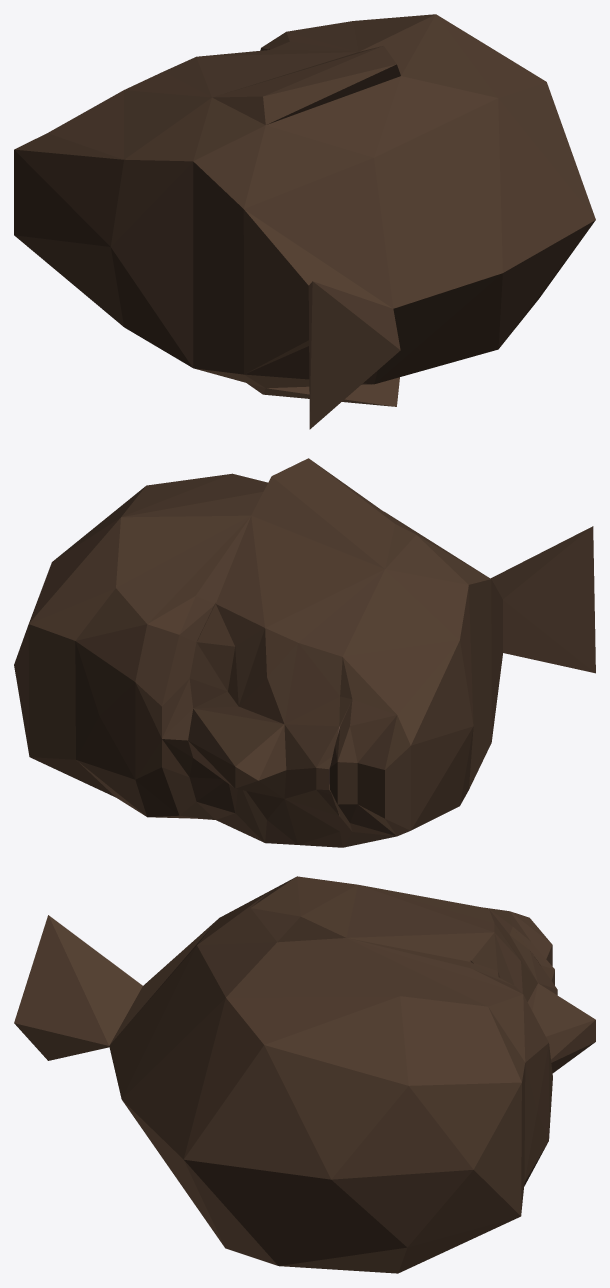
Rendered from HUM_HEAD_PONY.OBJ.
The picture shows the model from 3 angles, top to bottom: view 1: azimuth 30°, elevation 25°; view 2: azimuth 150°, elevation 25°; view 3: azimuth 270°, elevation 25°; orthographic projection.
Parts seen in each view (by area): view 1: HUM_HEAD_PONY; view 2: HUM_HEAD_PONY; view 3: HUM_HEAD_PONY.
Part boxes in pixels (x1,y1,x2,y2): HUM_HEAD_PONY: [14, 14, 595, 429]; HUM_HEAD_PONY: [14, 458, 595, 847]; HUM_HEAD_PONY: [14, 876, 595, 1273].
Size of the model in its own units: 0.2732 by 0.199 by 0.3069.
